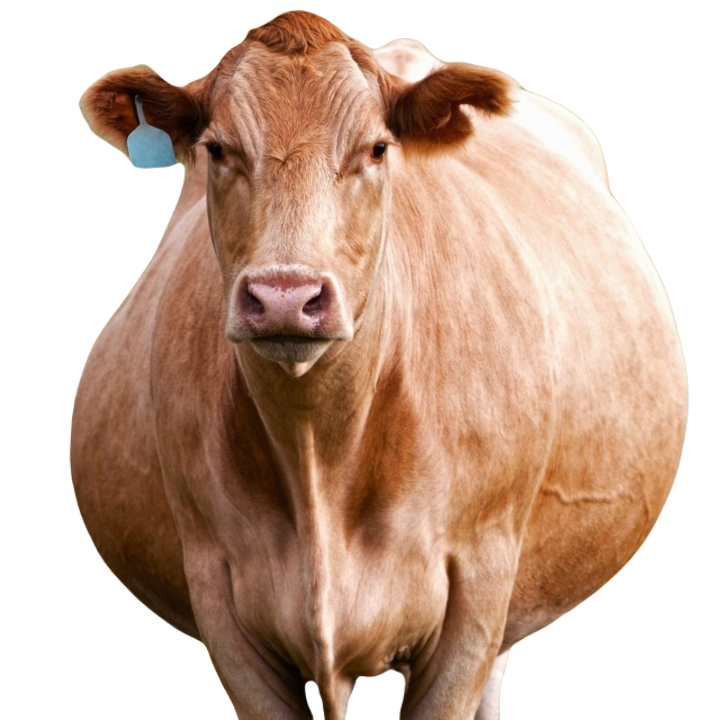Cow: (65, 10, 689, 719)
